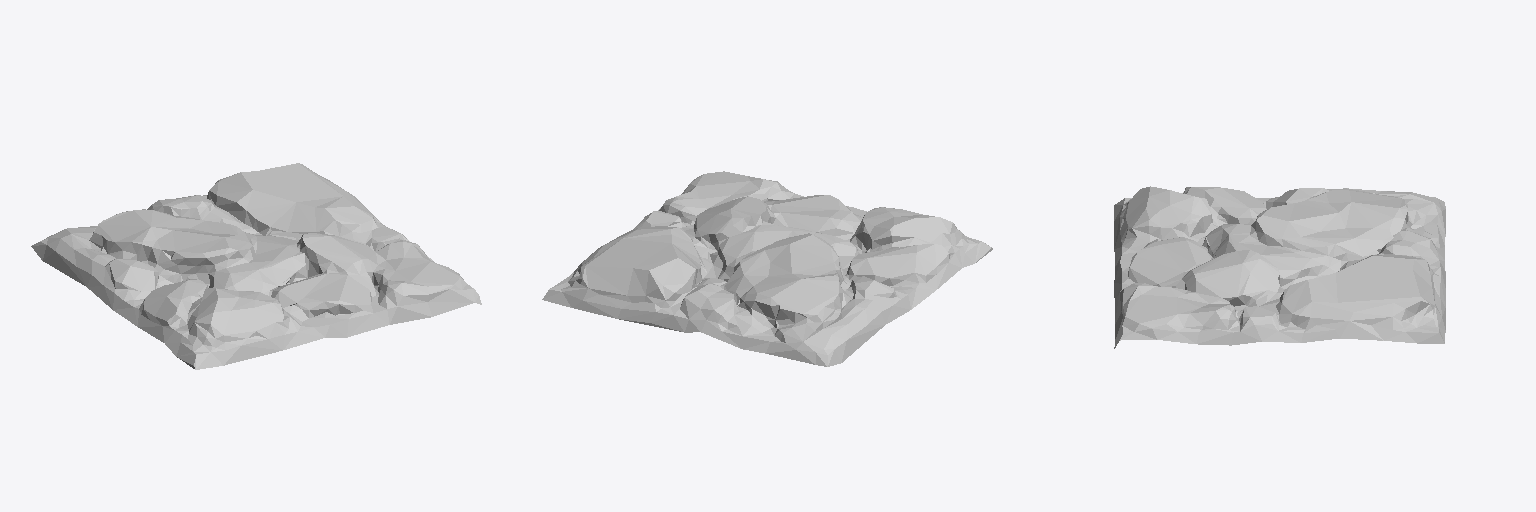
The model's file is stone_tile_2.obj.
The picture shows the model from 3 angles: view 1: azimuth 30°, elevation 25°; view 2: azimuth 150°, elevation 25°; view 3: azimuth 270°, elevation 25°; orthographic projection.
Parts seen in each view (by area): view 1: Tile1_Lo.001_Cube.005; view 2: Tile1_Lo.001_Cube.005; view 3: Tile1_Lo.001_Cube.005.
Boxes of the visible parts, box(x1,y1,x2,y2) form: Tile1_Lo.001_Cube.005: box(31, 163, 481, 369); Tile1_Lo.001_Cube.005: box(542, 171, 992, 366); Tile1_Lo.001_Cube.005: box(1114, 186, 1445, 348).
Bounding box in the file's own units: 2 × 0.313 × 2.